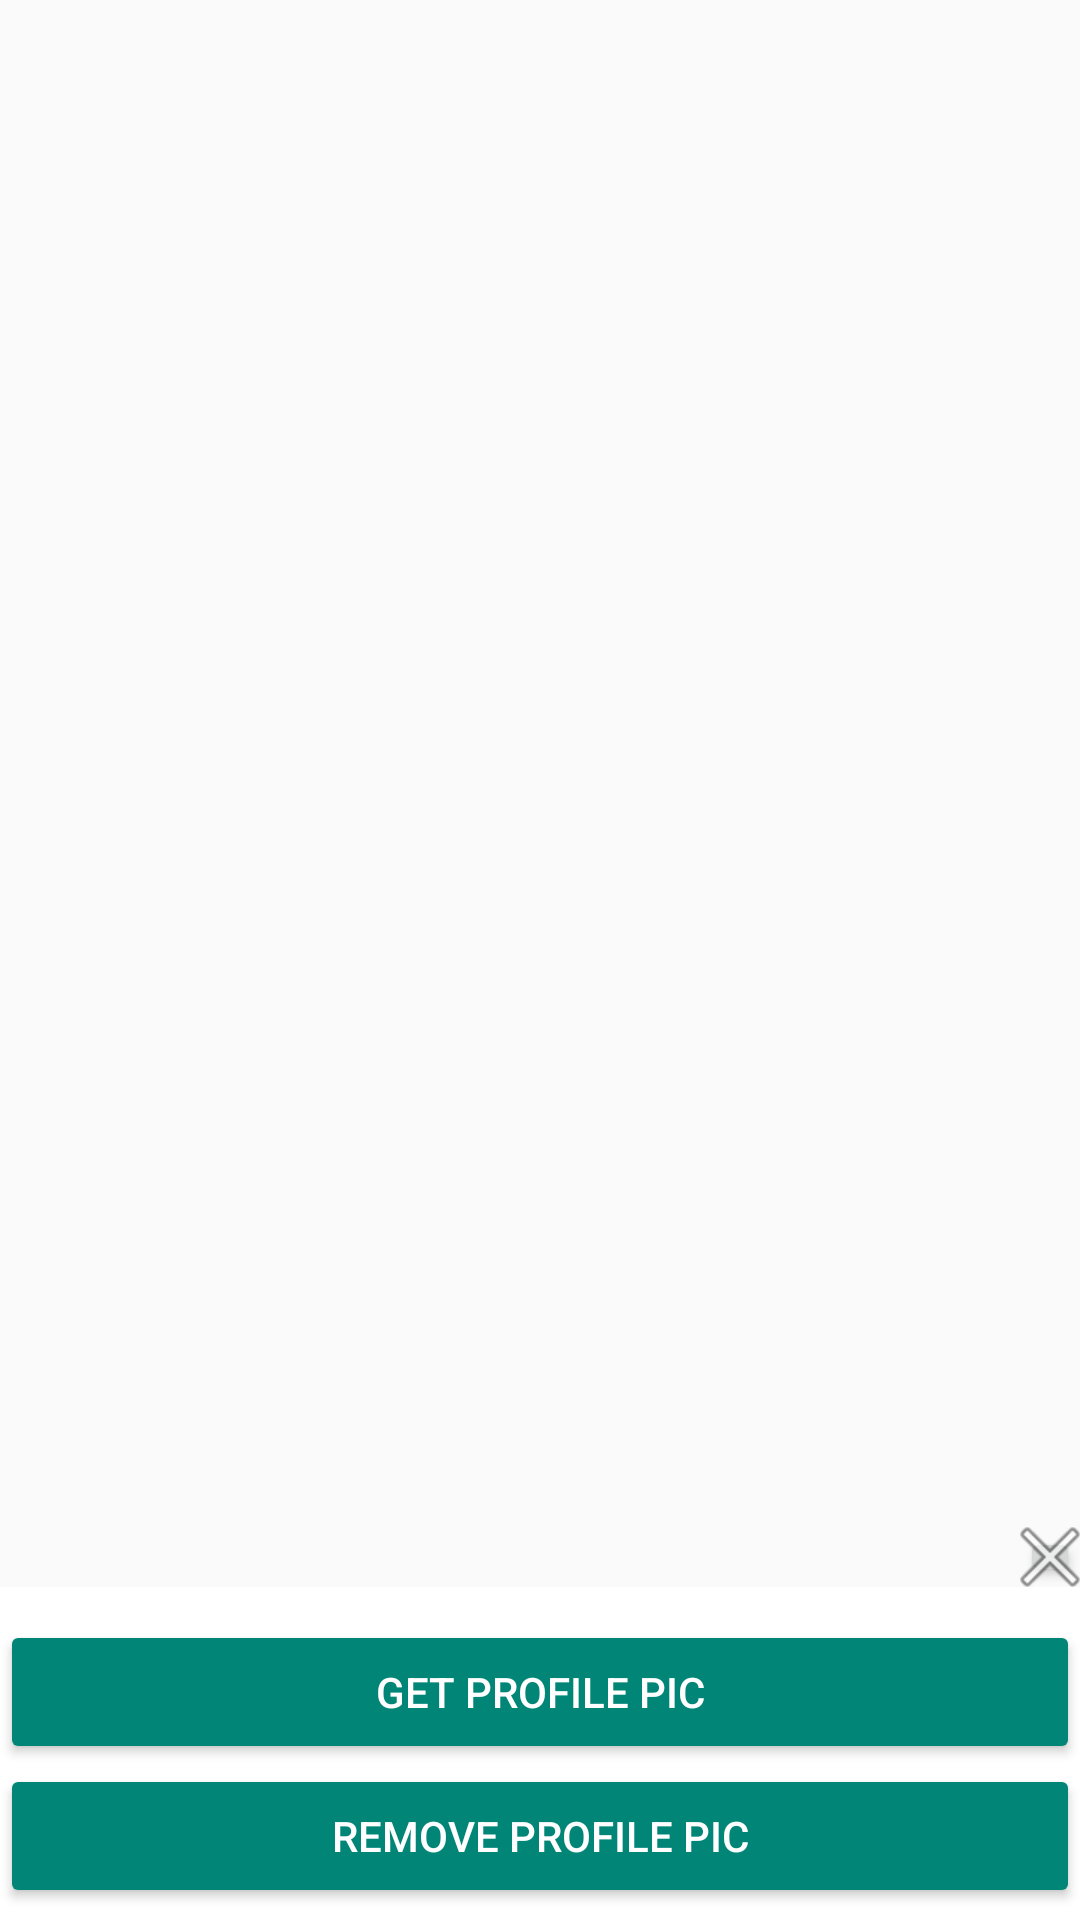

Screen size 1080w x 1920h. Icon name, then its box in pixels as (x1=x1, y1=y1, x2=x2, y2=y2):
close clear cancel: (x1=1020, y1=1527, x2=1080, y2=1587)
